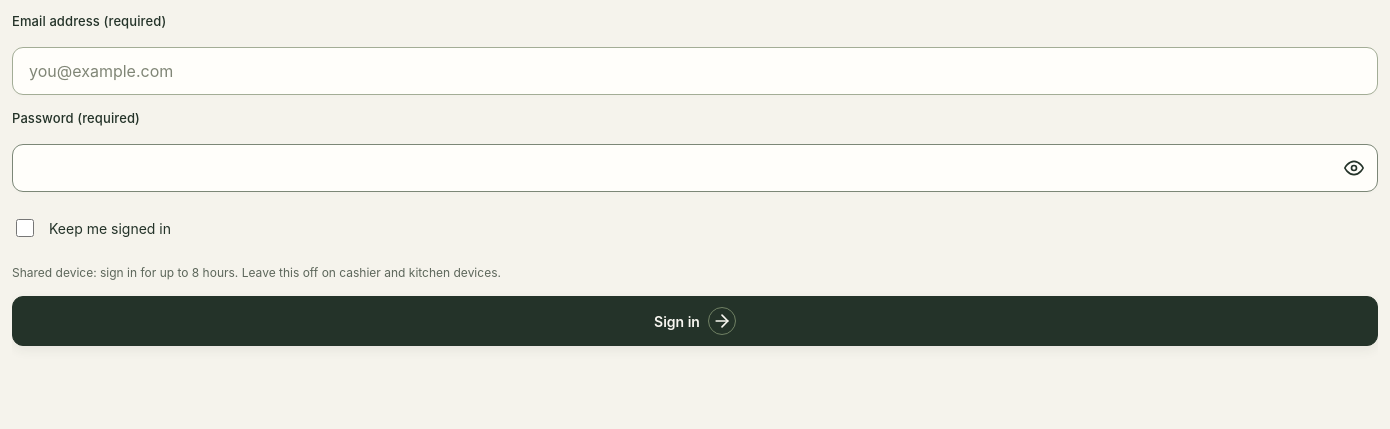
Test: shows recoverable feedback for HTTP 401 without exposing diagnostics
This screenshot has width=1390, height=429.
Type "Owner@Example.com" into the field labelled "Email address" at (695, 71), box x1=12 y1=47 x2=1378 y2=95
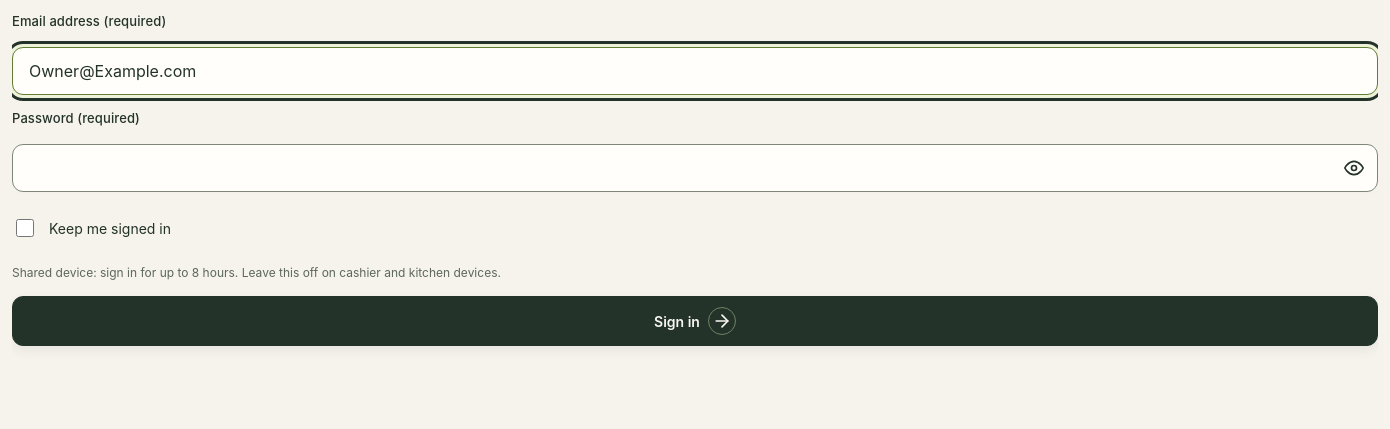
Type "  test passphrase  " into the password field labelled "Password" at (695, 168), box x1=12 y1=144 x2=1378 y2=192
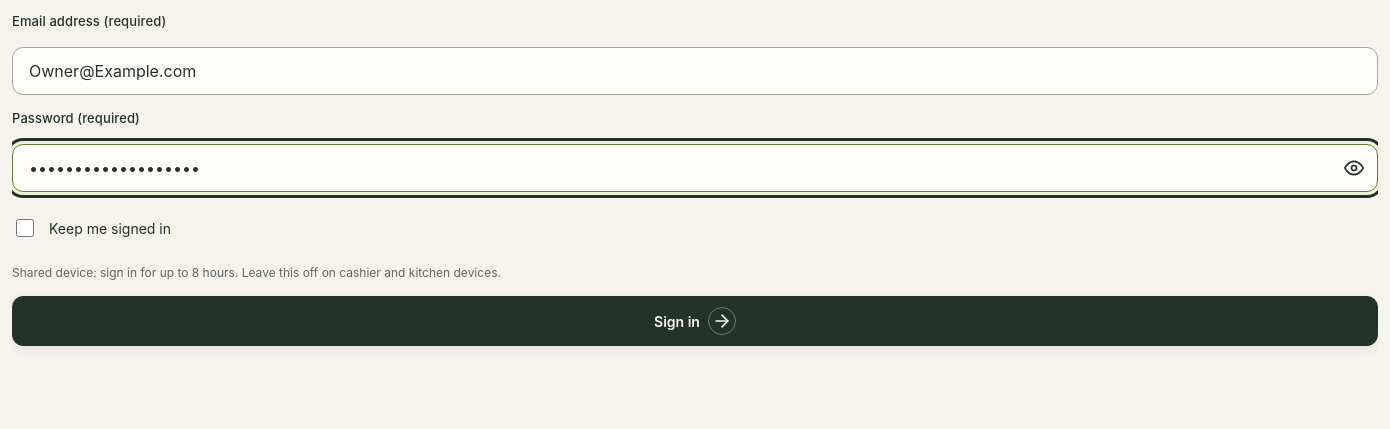
Click the button "Sign in" at (695, 321), box x1=12 y1=296 x2=1378 y2=346
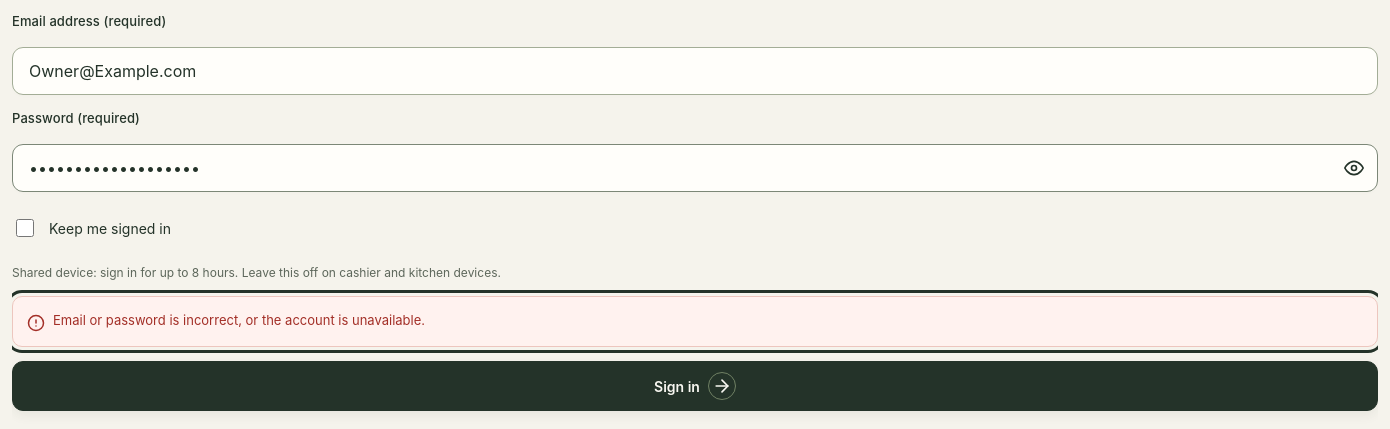
Result: the message shows "Email or password is incorrect" at x1=53 y1=312 x2=425 y2=328
